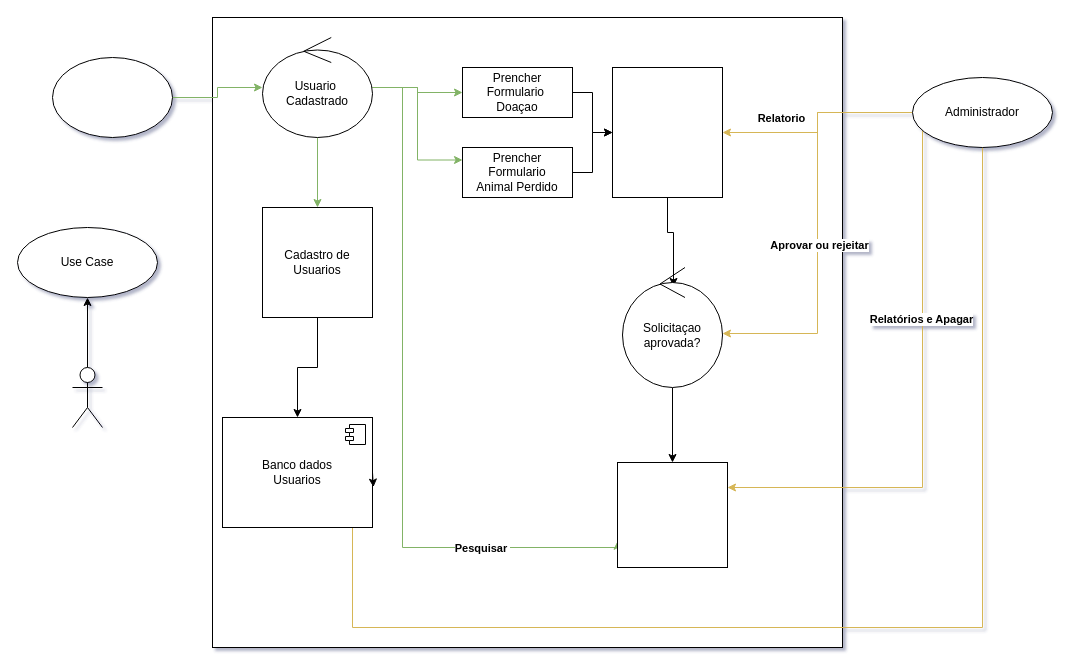
Some shapes in this 1076 by 671 pixel diagram are drawn without their labels. Here are the shapes that lost their labels. From the top down, the centre of each, then its label:
(112,97): usuario
(667,132): Banco de Dados Solicitaçoes
(87,397): Actor
(672,515): Banco de Dados (publicações on line)
